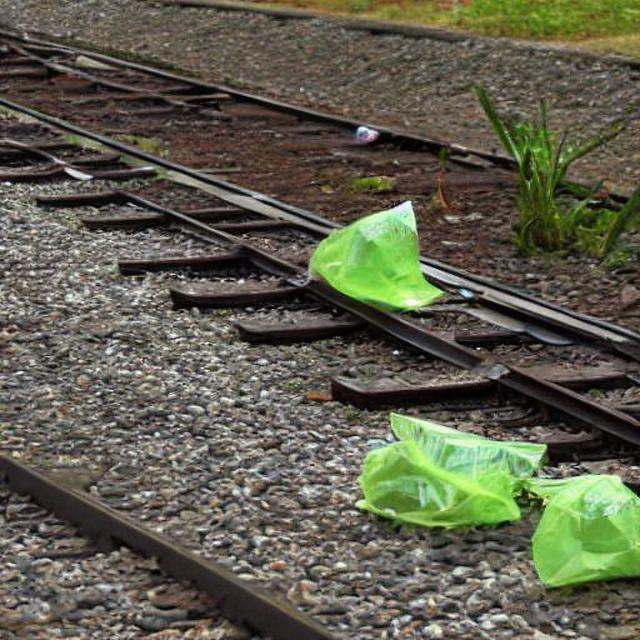plastic bag: (353, 413, 535, 528), (522, 442, 640, 616), (308, 198, 442, 314)
